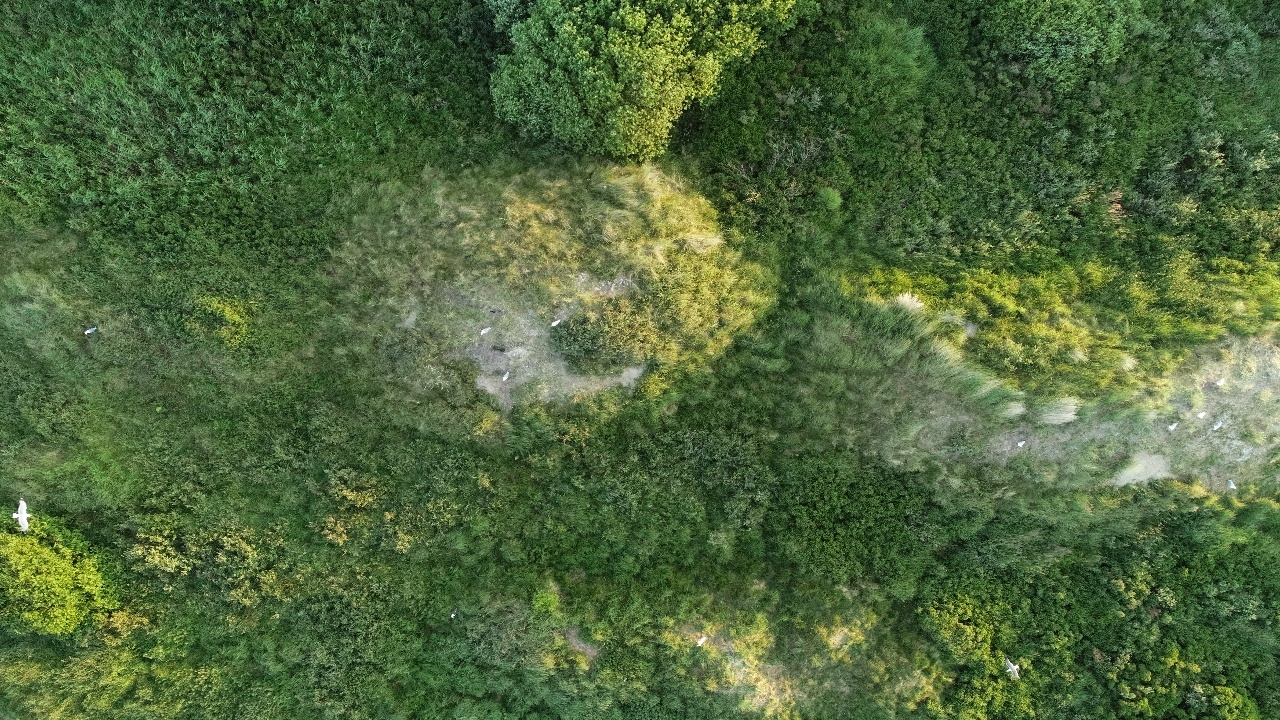Bird: (3, 493, 48, 541), (72, 314, 111, 349), (488, 359, 527, 394), (469, 311, 508, 346), (540, 305, 579, 340), (1005, 422, 1044, 457), (1153, 411, 1192, 446), (1215, 464, 1254, 499), (992, 654, 1031, 689), (682, 623, 721, 658), (1207, 414, 1234, 439), (1188, 400, 1215, 425), (1211, 370, 1238, 395)
